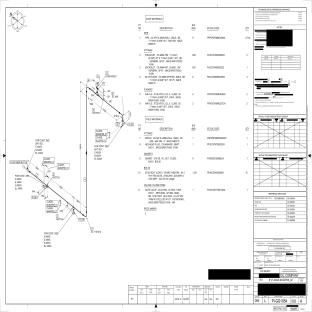elbow: (119, 112, 123, 121), (86, 87, 90, 91), (83, 213, 87, 217)
flange: (72, 209, 75, 213), (28, 168, 30, 173), (122, 120, 124, 125), (44, 185, 47, 188)
weld: (122, 120, 124, 122), (89, 88, 91, 90), (82, 214, 84, 216), (119, 112, 120, 114), (86, 91, 87, 93), (86, 211, 87, 213)
